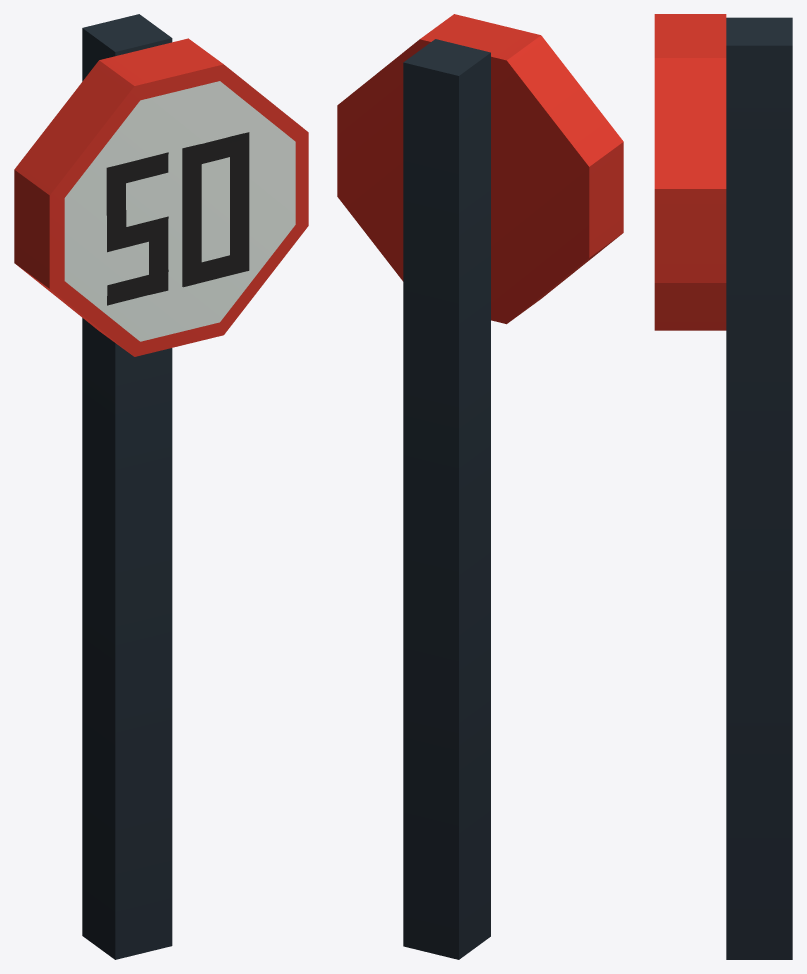
The model's file is Road_sign_max_Speed_50.fbx.
The picture shows the model from 3 angles, left to right: view 1: azimuth 30°, elevation 25°; view 2: azimuth 150°, elevation 25°; view 3: azimuth 270°, elevation 25°; orthographic projection. The views are drawn at different scales.
Parts seen in each view (by area): view 1: Road_sign_max_Speed_50; view 2: Road_sign_max_Speed_50; view 3: Road_sign_max_Speed_50.
Boxes of the visible parts, x1,y1,x2,y2 form: Road_sign_max_Speed_50: (14,14,308,959); Road_sign_max_Speed_50: (337,14,623,959); Road_sign_max_Speed_50: (654,14,792,959).
Bounding box in the file's own units: 107 × 359 × 49.94.
